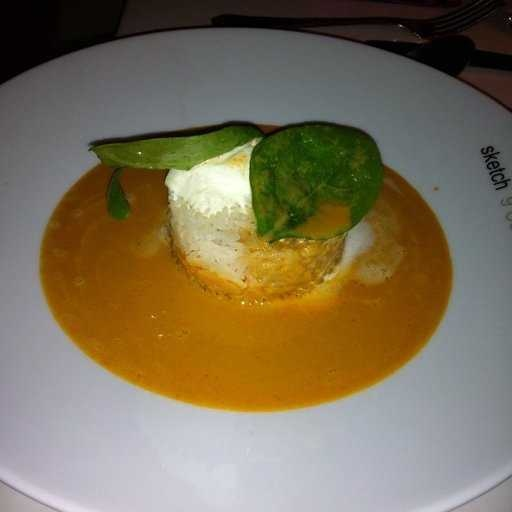soup: (32, 85, 492, 415)
